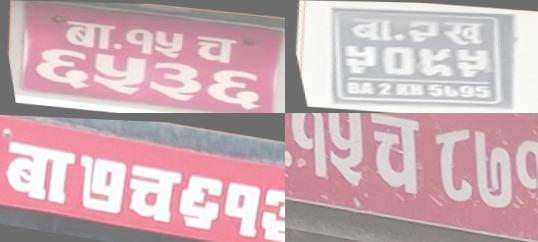0: (368, 42, 422, 78)
1: (285, 113, 336, 182), (217, 174, 267, 237), (503, 130, 538, 220), (119, 26, 158, 56)
2: (400, 19, 448, 44)
3: (139, 59, 206, 104), (255, 182, 285, 242)
5: (314, 113, 376, 191), (83, 52, 155, 96), (334, 43, 384, 76), (446, 47, 496, 80), (146, 26, 188, 59)
6: (172, 164, 228, 234), (26, 45, 94, 91), (198, 67, 266, 107)
7: (462, 121, 520, 211), (69, 149, 133, 218)
8: (419, 114, 480, 206)
9: (407, 43, 461, 80)
ba: (0, 136, 79, 206), (57, 19, 115, 52), (341, 14, 401, 42)
cha: (356, 113, 428, 199), (121, 158, 185, 225), (189, 32, 238, 65)
kha: (435, 19, 489, 49)
